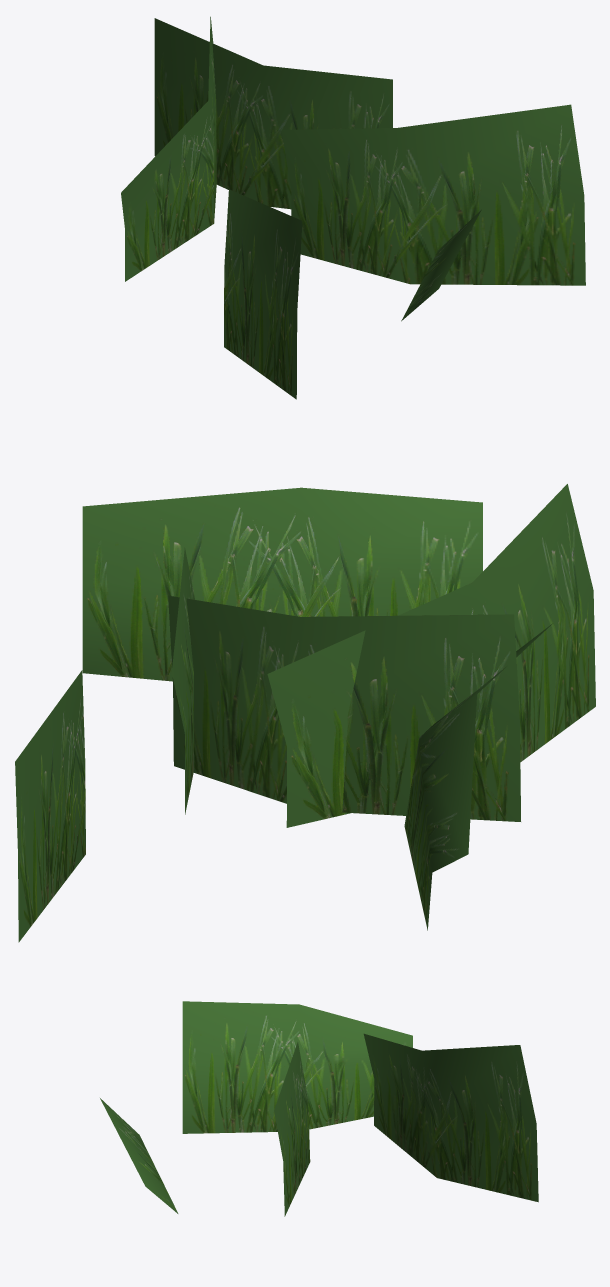
Rendered from Backyard_Grass_LowPoly.glb.
3 views of the same model, one above another, from view 1: azimuth 30°, elevation 25°; view 2: azimuth 150°, elevation 25°; view 3: azimuth 270°, elevation 25° (orthographic). The views are drawn at different scales.
Parts seen in each view (by area): view 1: Backyard_Grass_Mobile_8; view 2: Backyard_Grass_Mobile_8; view 3: Backyard_Grass_Mobile_8.
Boxes of the visible parts, <box> form: Backyard_Grass_Mobile_8: <box>121,16,585,399</box>; Backyard_Grass_Mobile_8: <box>15,484,595,942</box>; Backyard_Grass_Mobile_8: <box>100,1001,538,1216</box>.
Bounding box in the file's own units: 0.6275 × 0.2553 × 0.7929.
1 material, 1 textured.
